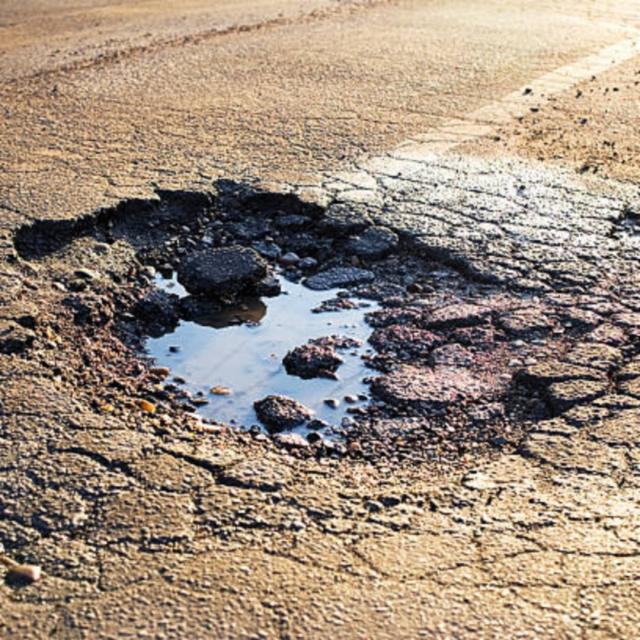pothole: (3, 171, 640, 550)
